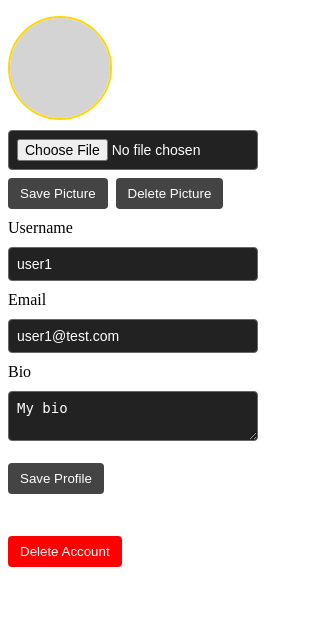
Test: ProfileSidebar component › shows error on profile save failure
Expected: the 1st field showing "user1" is shown, x1=8 y1=247 x2=258 y2=281
Step 1. Click the button "Save Profile" → [56, 478], box x1=8 y1=463 x2=104 y2=494
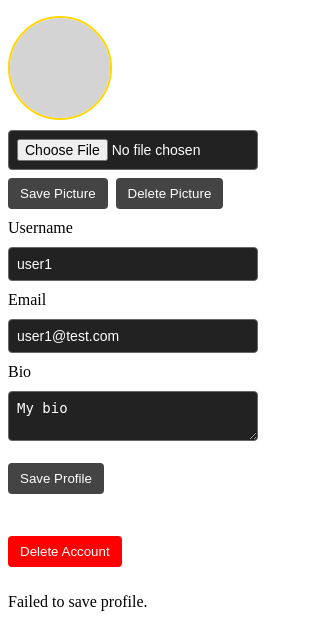
Expected: the text "Failed to save profile." is shown, x1=8 y1=593 x2=148 y2=610
